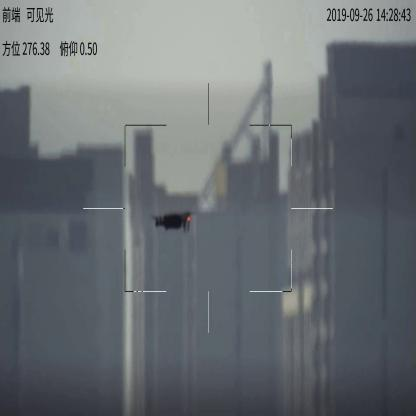uav: (149, 211, 197, 232)
